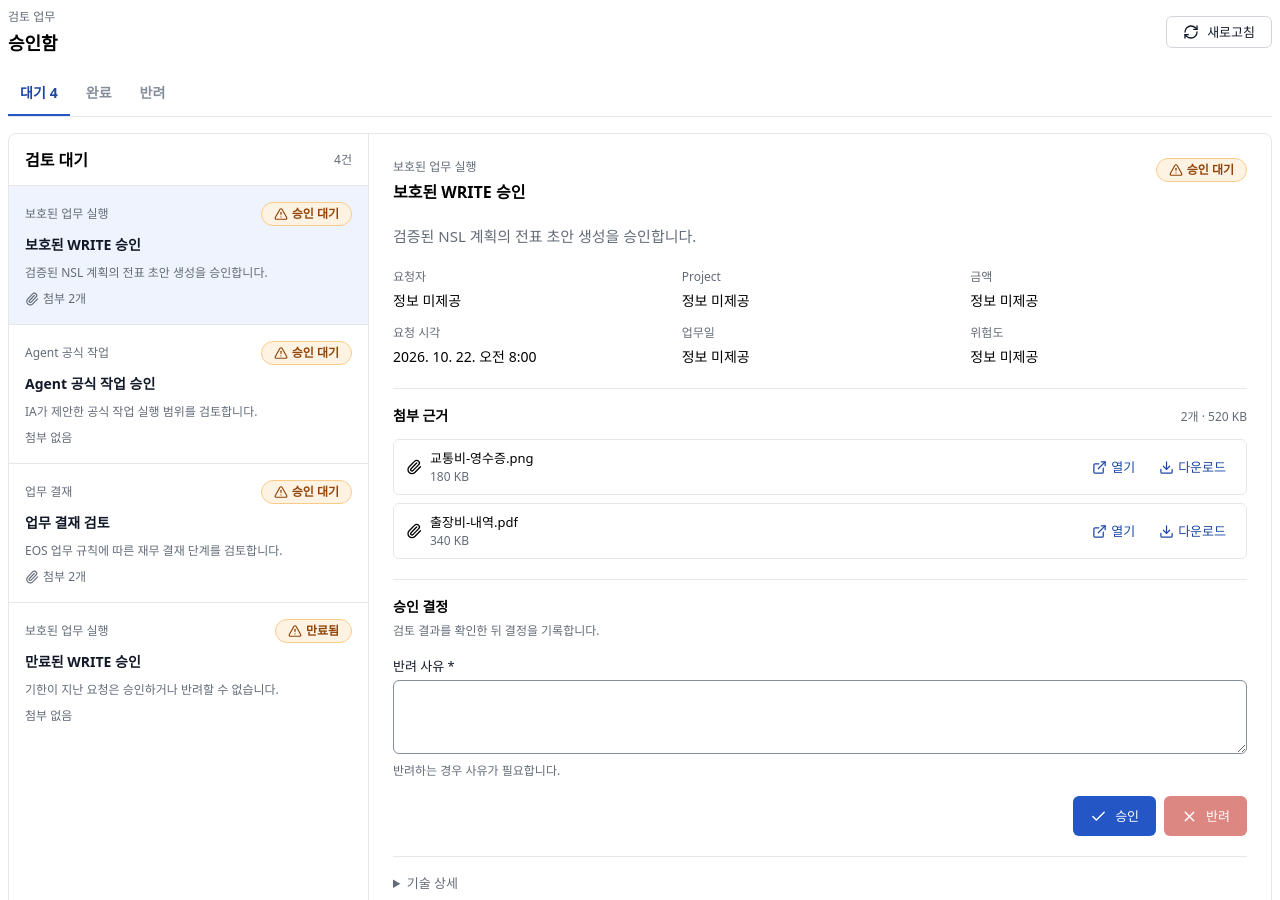
Test: Approval Inbox React surface › maps APPROVAL_SERVER_ERROR decision failures to safe guidance
Expected: the heading "보호된 WRITE 승인" is shown, [393, 180, 525, 204]
Click the button "승인": (1115, 816) [1073, 796, 1156, 836]
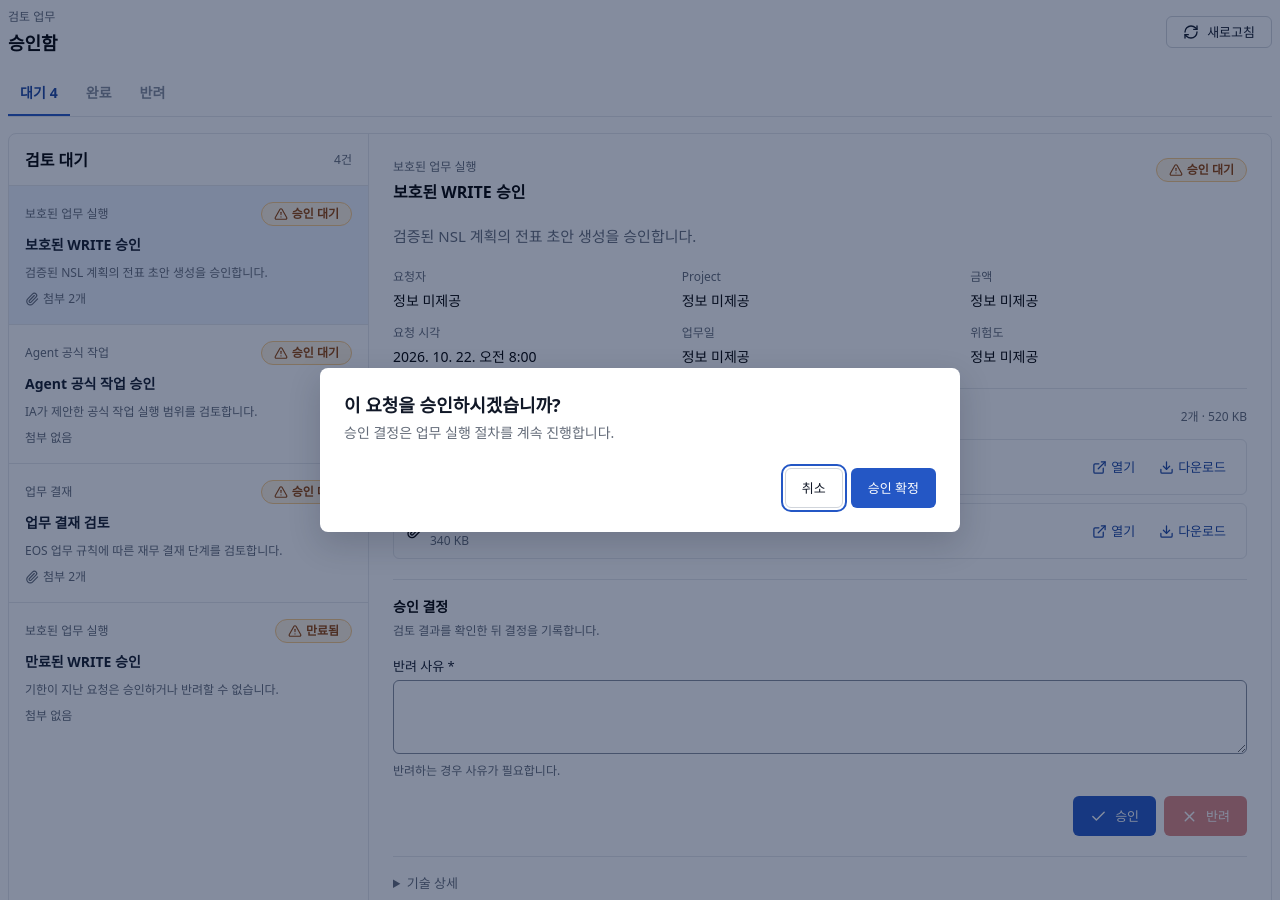
Click the button "승인 확정": (893, 488) [851, 468, 936, 508]
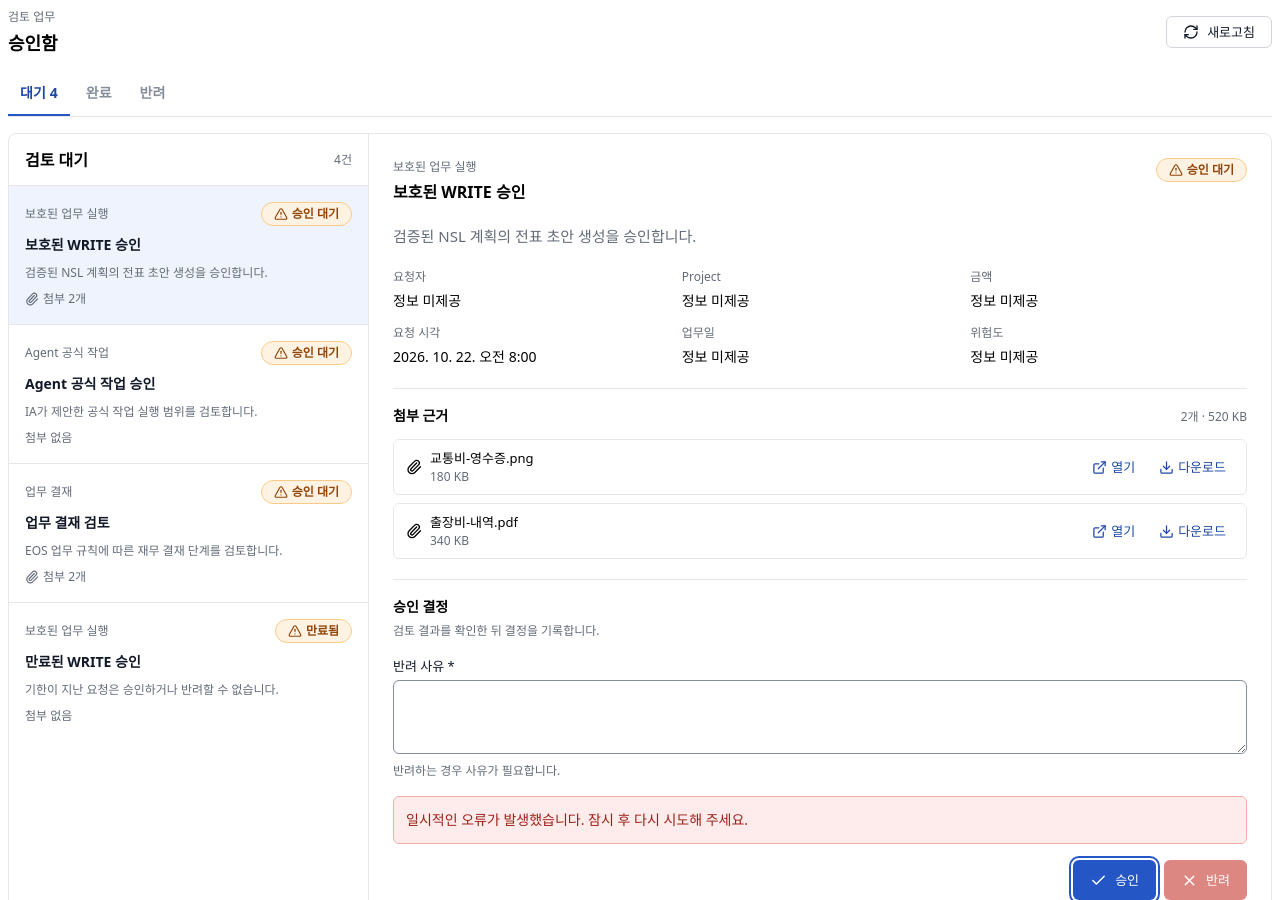
Expected: the message does not show "protected backend detail", [393, 796, 1247, 844]
Expected: the message shows "일시적인 오류가 발생했습니다.", [406, 810, 748, 829]
